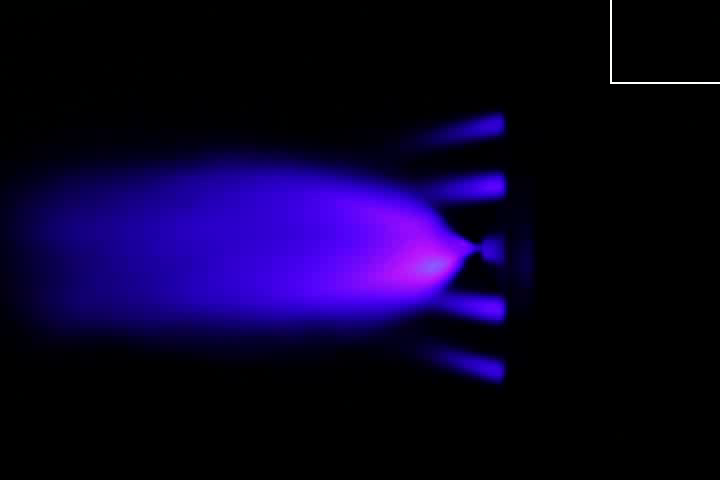burner cap: (477, 232, 504, 263)
pilot flame: (404, 166, 514, 203), (420, 283, 507, 327), (422, 348, 507, 388), (397, 114, 502, 140)
unstable: (337, 183, 478, 309)
